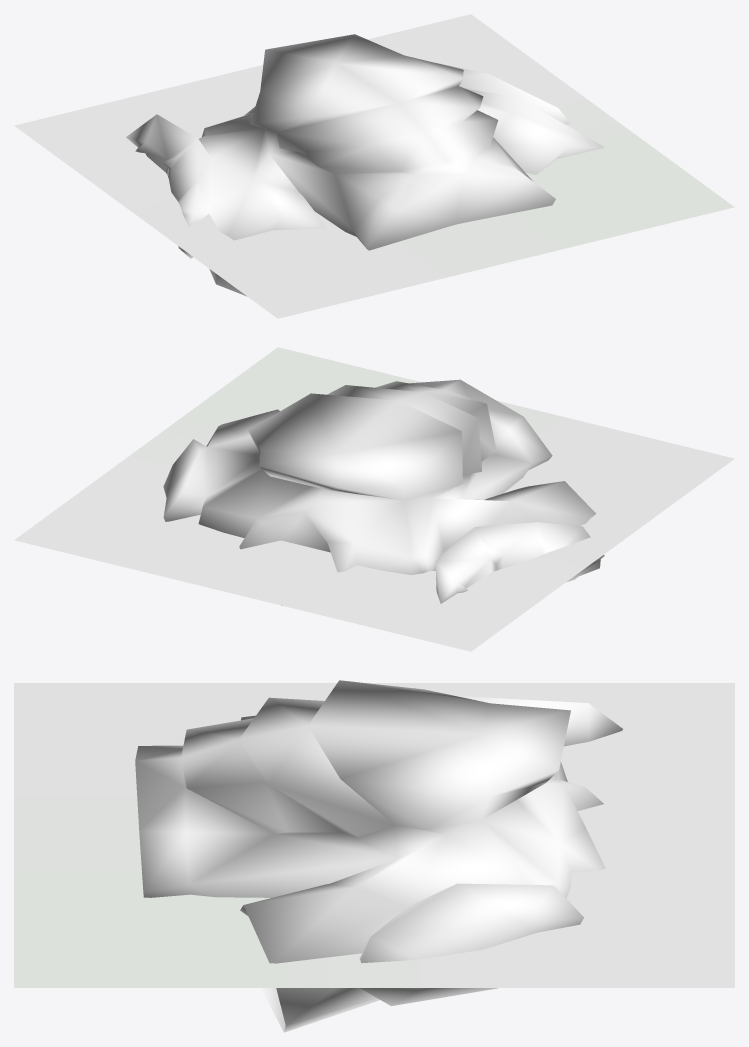
Rendered from ITAR_CRAB.glb.
The picture shows the model from 3 angles, top to bottom: view 1: azimuth 30°, elevation 25°; view 2: azimuth 150°, elevation 25°; view 3: azimuth 270°, elevation 25°; orthographic projection. The views are drawn at different scales.
Visible parts, largest first — view 1: Mesh; view 2: Mesh; view 3: Mesh.
Boxes of the visible parts, <box> form: Mesh: <box>14,14,734,318</box>; Mesh: <box>14,347,734,651</box>; Mesh: <box>14,680,734,1032</box>.
Size of the model in its own units: 0.8157 by 0.2508 by 0.8157.
2 materials, 1 textured.
